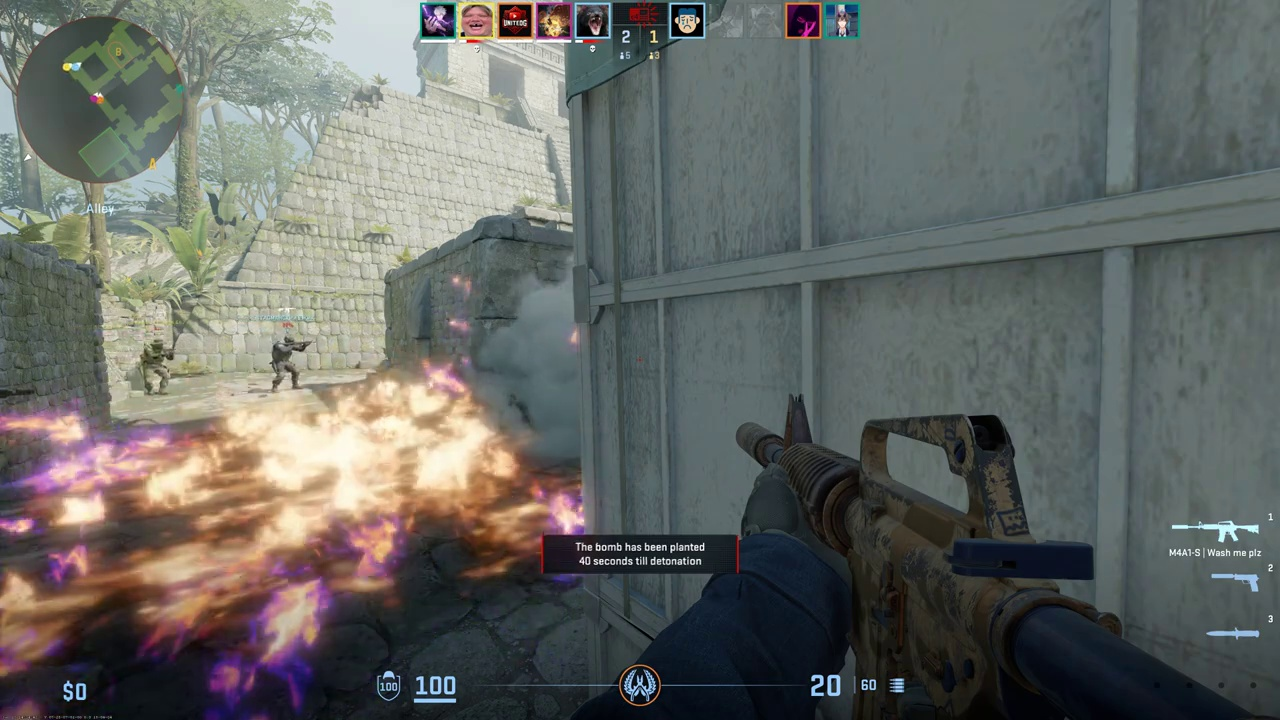CT: (272, 335, 300, 390), (144, 340, 171, 396)
